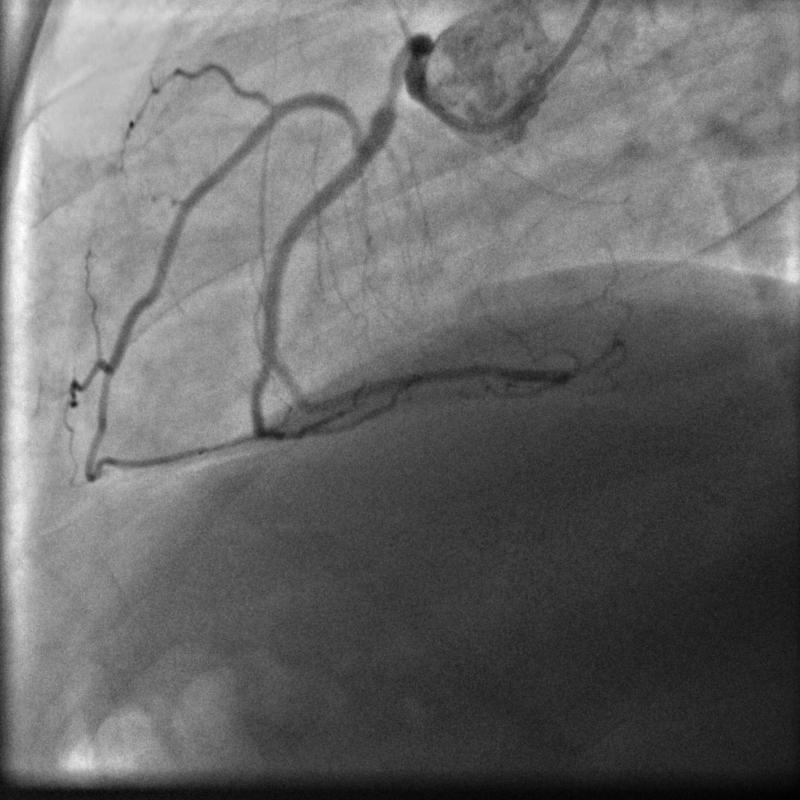Stenosis: (379, 76, 401, 112)
